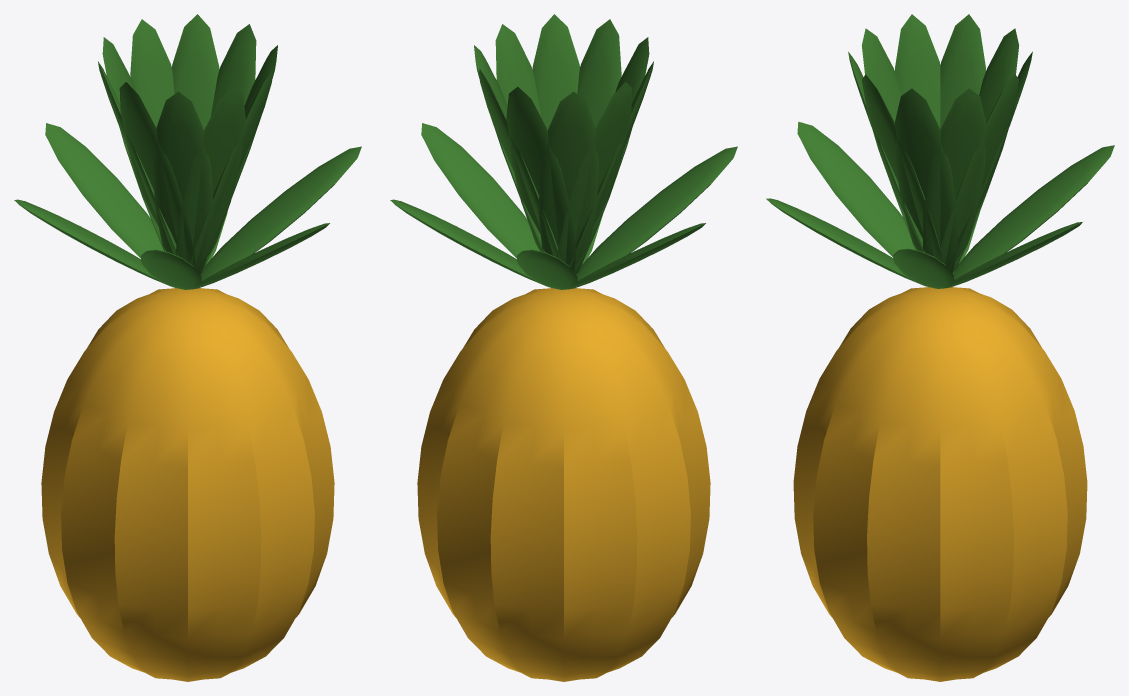
The model's file is Pineapple.fbx.
The picture shows the model from 3 angles, left to right: view 1: azimuth 30°, elevation 25°; view 2: azimuth 150°, elevation 25°; view 3: azimuth 270°, elevation 25°; orthographic projection.
Parts seen in each view (by area): view 1: Pineapple; view 2: Pineapple; view 3: Pineapple.
Boxes of the visible parts, x1,y1,x2,y2 form: Pineapple: [14, 14, 361, 681]; Pineapple: [390, 14, 737, 681]; Pineapple: [766, 14, 1114, 681].
Bounding box in the file's own units: 0.1333 × 0.2484 × 0.1272.
